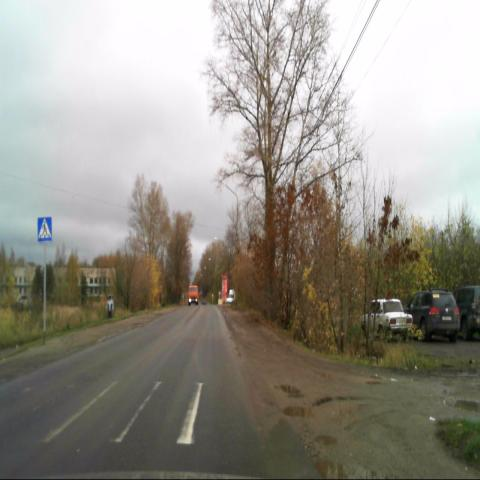5_19_1: (38, 217, 52, 242)
